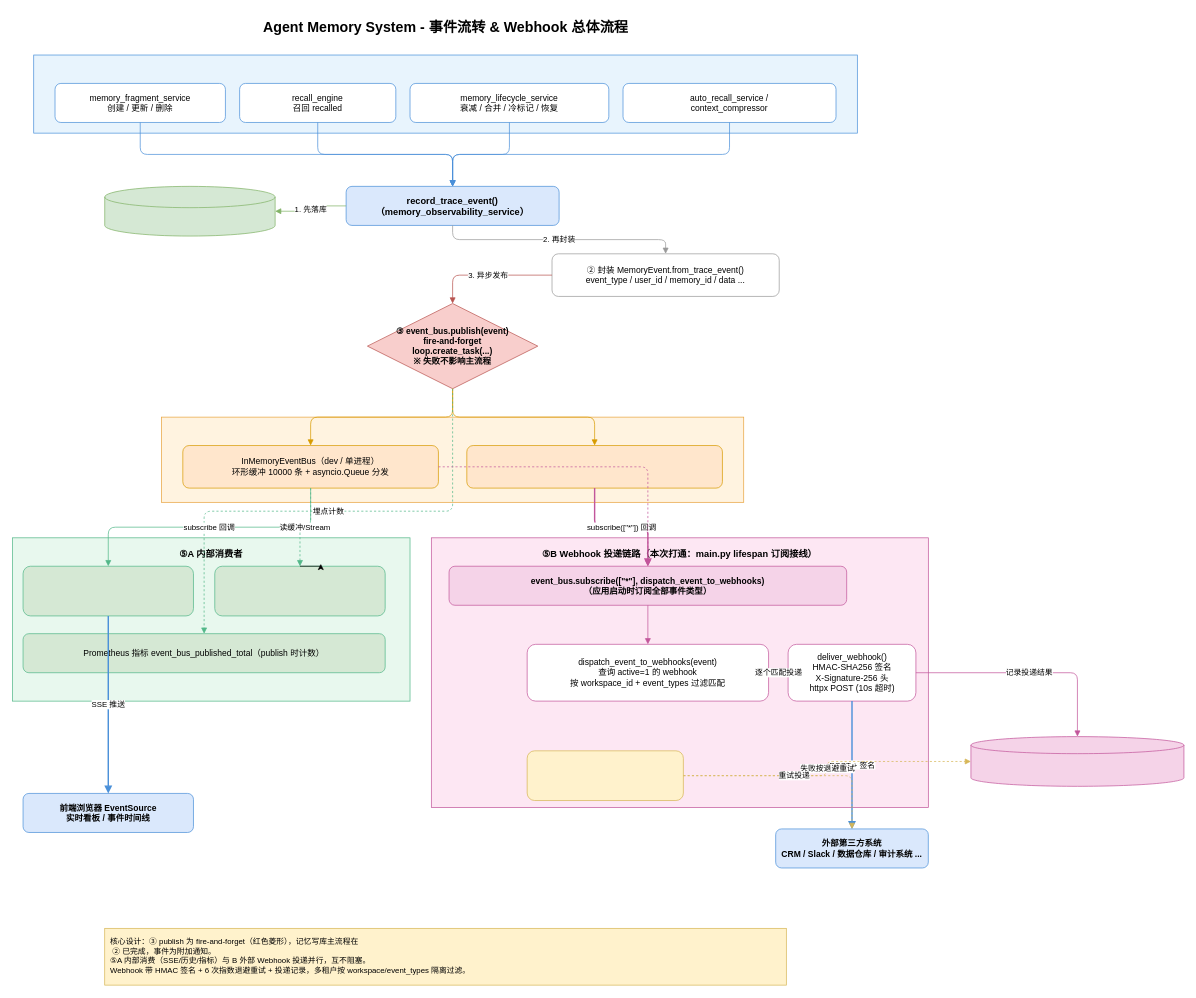
Image size: 1196x998. Some labels were removed from this diagram. Here are the shapes that lost their labels. From the top down, the box of each, then its label:
(33, 54, 857, 133): ① 事件生产者（业务服务）
(104, 186, 275, 236): ② 落库 SQLite / PostgreSQL memory_trace_events 表
(161, 416, 744, 502): ④ EventBus（按 EVENT_BUS_BACKEND 二选一，接口统一）
(466, 445, 722, 488): RedisEventBus（prod / 多进程） Redis Pub/Sub 跨进程 + Stream 持久化
(22, 566, 193, 616): SSE 实时流 GET /events/stream subscribe() 回调
(214, 566, 385, 616): 历史查询 GET /events 读缓冲 / Stream
(526, 750, 683, 801): 重试 worker（每 30s 扫描） 指数退避 1m→5m→30m→2h→8h→24h 最多 6 次
(970, 736, 1184, 786): webhook_deliveries 表 记录 status/attempt/next_retry_at
